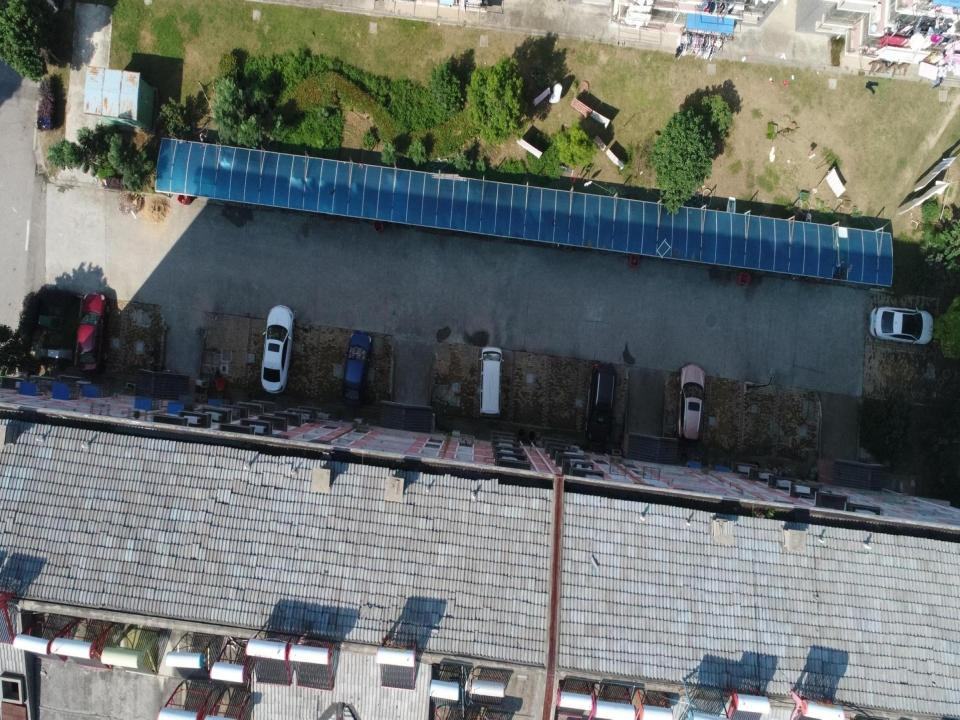car: (261, 305, 296, 394), (585, 360, 617, 446), (673, 363, 706, 446), (76, 292, 109, 374), (869, 306, 933, 345), (342, 331, 372, 408)
van: (479, 346, 504, 418)
